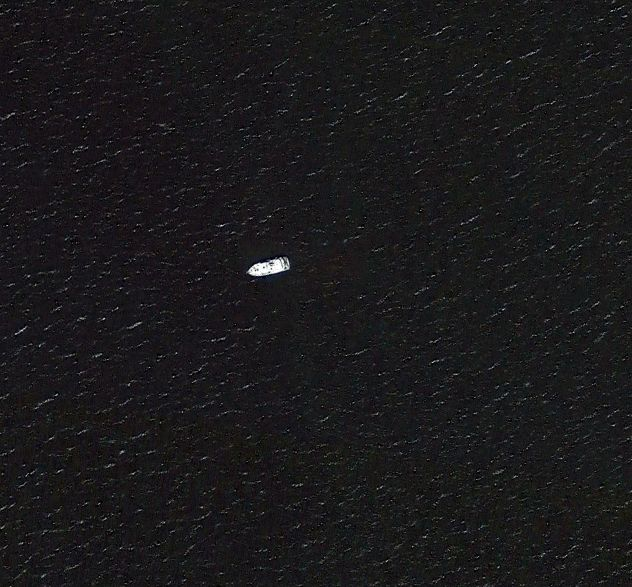boat: (244, 253, 293, 281)
